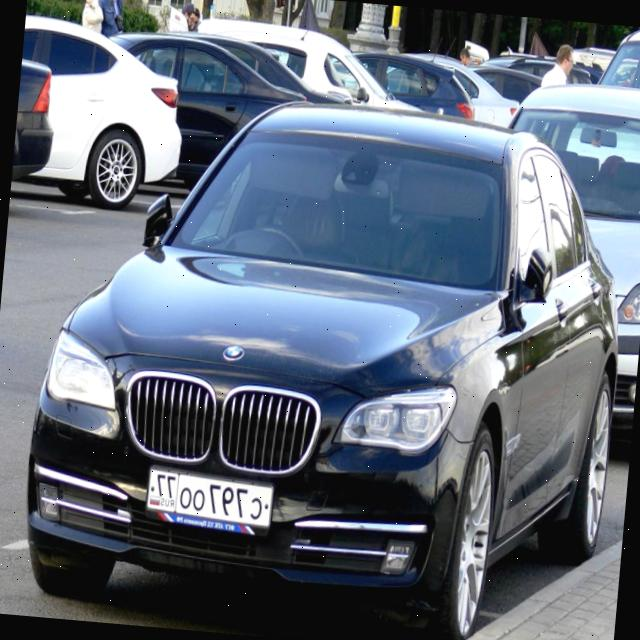number-plates: (145, 467, 275, 538)
